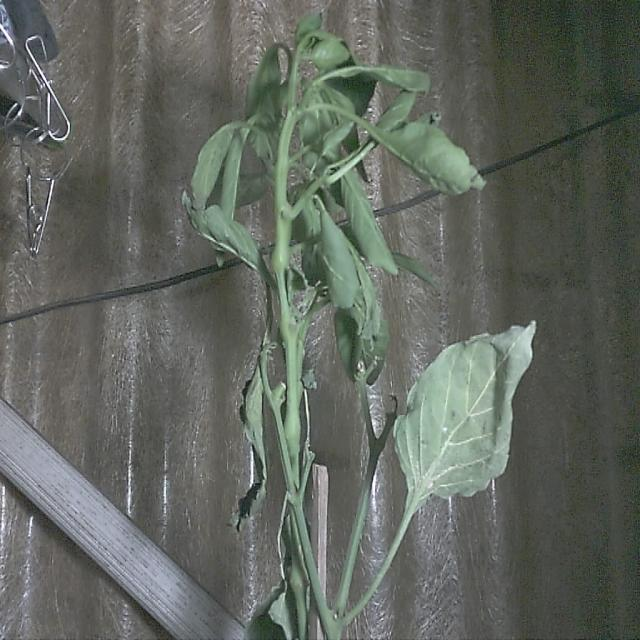Leaf: (392, 322, 536, 501), (380, 121, 488, 196)
